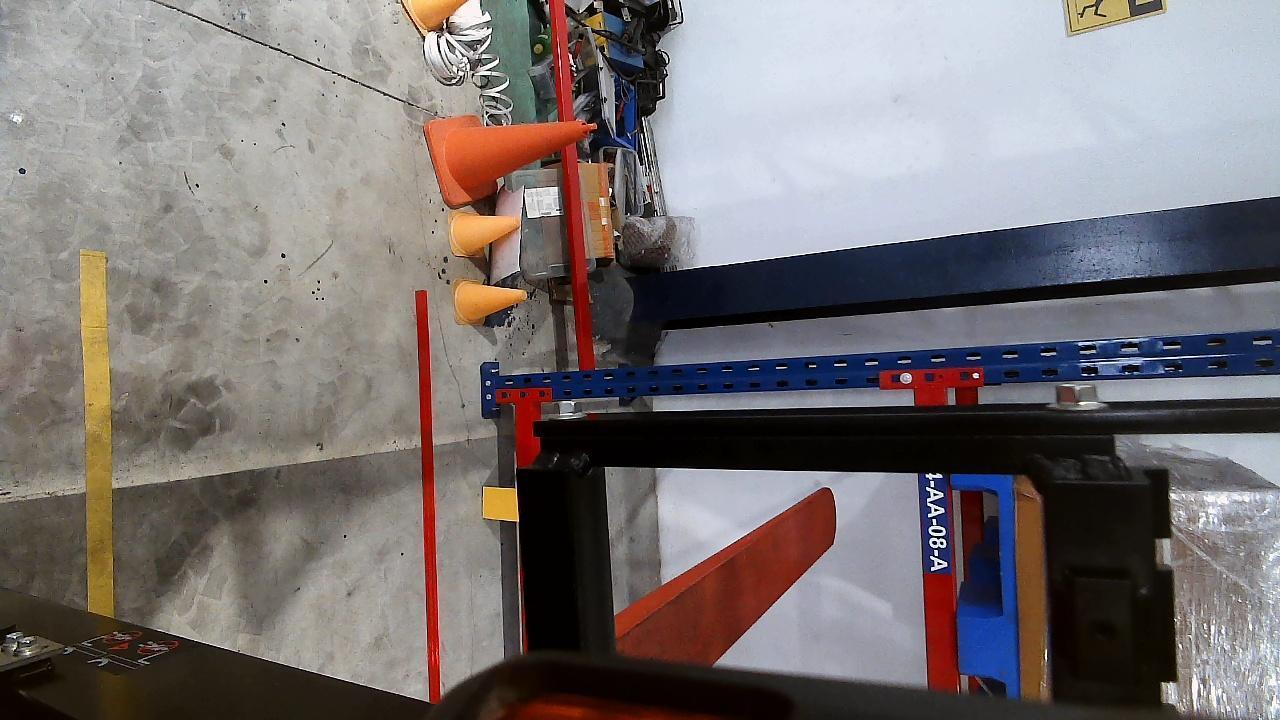red_line: (414, 290, 444, 703)
yellow_line: (80, 250, 113, 617)
